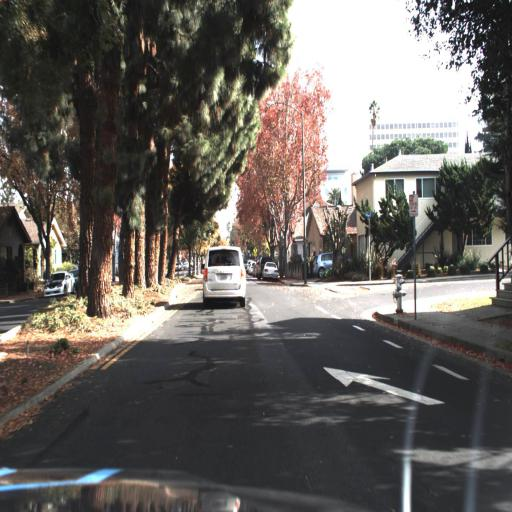car: (193, 240, 254, 306), (311, 250, 354, 282), (43, 268, 76, 298), (259, 259, 279, 282)
